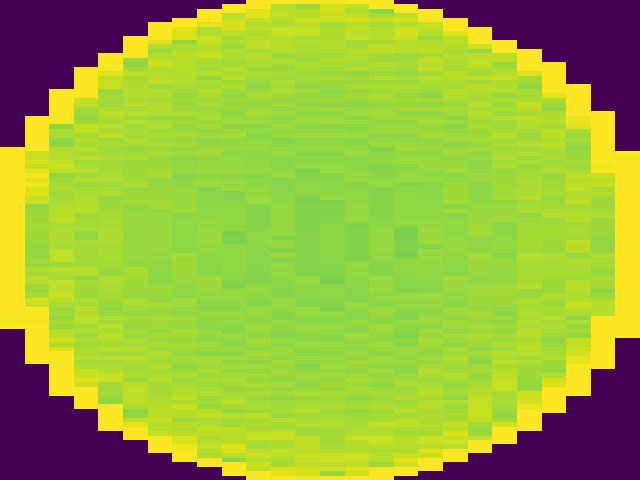sphere: (2, 1, 640, 480)
